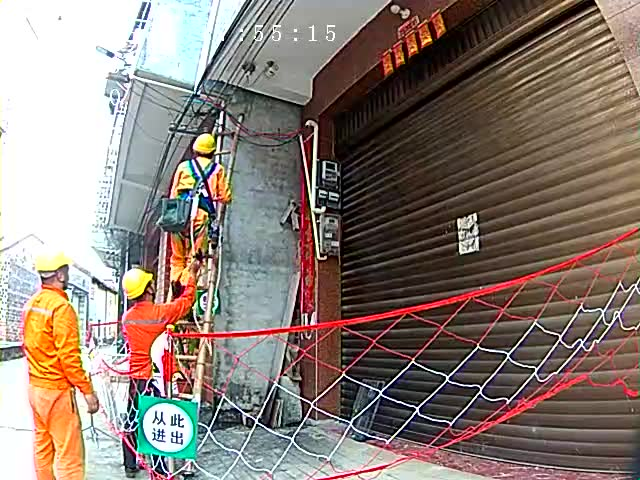downcloth: (125, 381, 171, 474)
halt: (34, 251, 75, 287), (123, 268, 157, 302), (194, 133, 217, 161)
hand: (85, 391, 99, 413), (187, 261, 200, 277)
inear: (53, 268, 66, 286)
intosign: (139, 396, 198, 456)
person: (20, 249, 95, 480), (120, 262, 199, 474), (172, 132, 230, 281)
safebelt: (186, 155, 223, 243)
worksign: (195, 289, 222, 315)
ydownsuit: (28, 386, 86, 480), (167, 214, 208, 282)
yupsuit: (122, 279, 196, 379), (23, 286, 84, 380), (170, 157, 228, 200)
